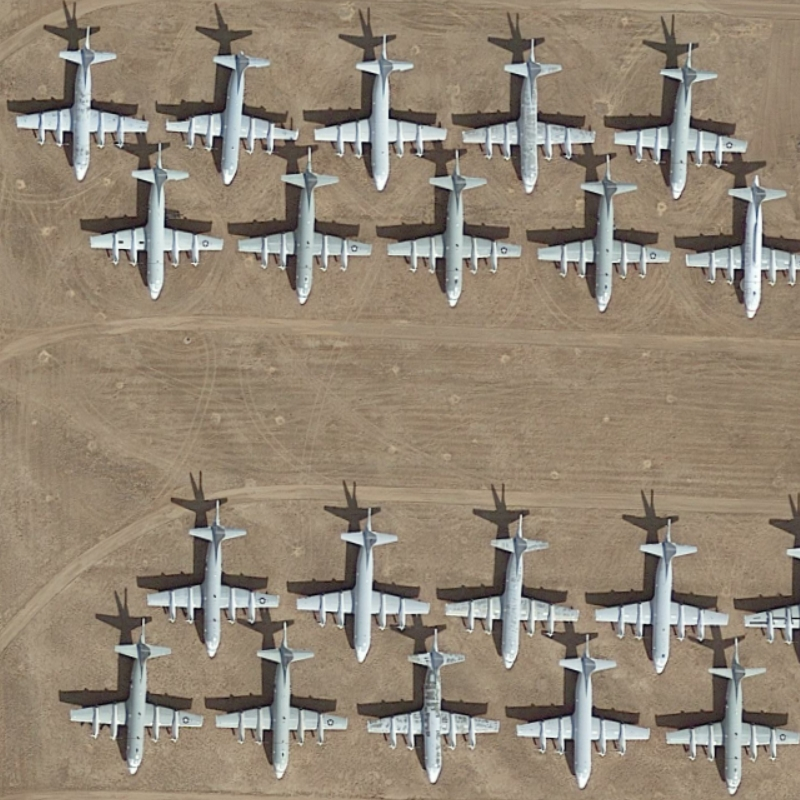A9: (507, 623, 663, 797), (137, 489, 287, 663), (438, 505, 590, 671), (84, 136, 231, 301), (380, 145, 526, 311), (293, 500, 437, 666), (231, 145, 379, 305), (594, 511, 737, 676), (214, 617, 356, 783), (612, 33, 751, 202), (461, 33, 601, 198), (534, 150, 670, 317), (311, 32, 449, 191), (69, 614, 204, 776), (359, 628, 498, 785), (12, 29, 151, 183), (665, 638, 800, 795), (163, 39, 304, 187), (678, 165, 800, 319)
